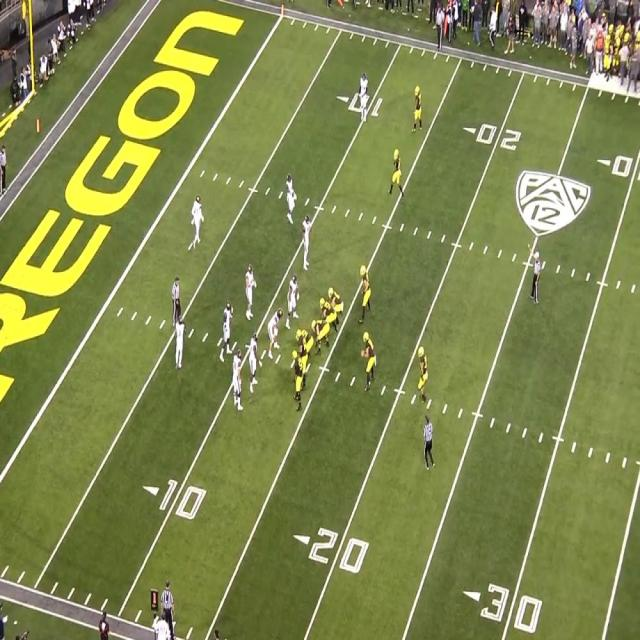center: (300, 327, 314, 356)
db: (358, 74, 370, 120), (174, 318, 184, 370), (286, 172, 296, 222), (192, 198, 202, 244)
lb: (245, 266, 257, 318), (232, 348, 242, 403), (223, 302, 230, 351), (304, 215, 310, 269)
qb: (361, 329, 376, 384)
